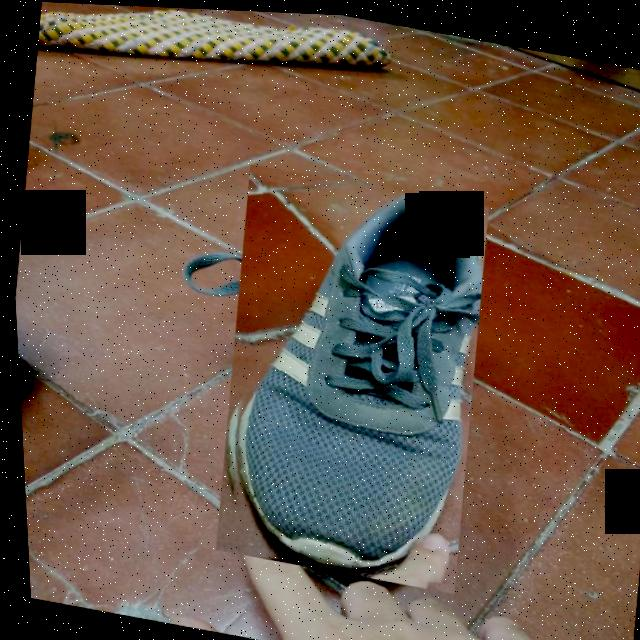shoe: (194, 161, 502, 592)
